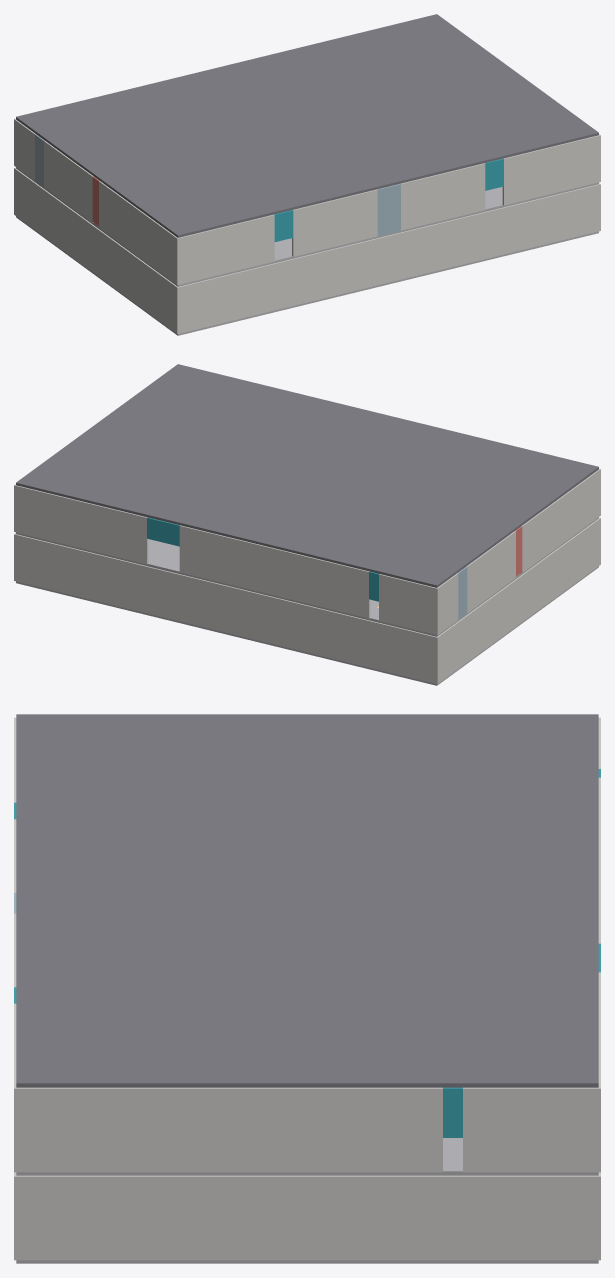
File: arena_a01.glb
3 renders of one model, top to bottom at view 1: azimuth 30°, elevation 25°; view 2: azimuth 150°, elevation 25°; view 3: azimuth 270°, elevation 25°, orthographic. The views are drawn at different scales.
Parts seen in each view (by area): view 1: slab_1_t0_0, slab_1_t0_1, slab_1_t0_9, slab_1_t0_6, slab_1_t0_8, slab_1_t0_2, slab_1_t0_3, slab_1_t0_4, slab_1_t0_7, slab_1_t0_5, slab_1_t0_10, slab_1_t1_0 (+161 smaller); view 2: slab_1_t7_0, slab_1_t7_1, slab_1_t7_9, slab_1_t7_6, slab_1_t7_8, slab_1_t7_2, slab_1_t7_3, slab_1_t7_4, slab_1_t7_7, slab_1_t7_5, slab_1_t7_10, slab_1_t1_0 (+161 smaller); view 3: ext_0_E_seg16, ext_-1_E_seg1, ext_-1_E_seg4, ext_-1_E_seg7, ext_-1_E_seg10, ext_-1_E_seg13, ext_-1_E_seg16, ext_0_E_seg1, ext_0_E_seg4, ext_0_E_seg7, ext_0_E_seg10, ext_0_E_seg15 (+112 smaller).
Boxes of the visible parts, x1=… form: slab_1_t0_0: x1=157, y1=211, x2=216, y2=237; slab_1_t0_1: x1=196, y1=202, x2=254, y2=228; slab_1_t0_9: x1=502, y1=127, x2=560, y2=153; slab_1_t0_6: x1=388, y1=155, x2=445, y2=181; slab_1_t0_8: x1=464, y1=136, x2=522, y2=162; slab_1_t0_2: x1=235, y1=192, x2=292, y2=218; slab_1_t0_3: x1=273, y1=183, x2=330, y2=209; slab_1_t0_4: x1=311, y1=174, x2=369, y2=200; slab_1_t0_7: x1=426, y1=146, x2=484, y2=172; slab_1_t0_5: x1=349, y1=164, x2=407, y2=190; slab_1_t0_10: x1=541, y1=118, x2=598, y2=144; slab_1_t1_0: x1=137, y1=196, x2=195, y2=222; slab_1_t7_0: x1=398, y1=561, x2=457, y2=587; slab_1_t7_1: x1=360, y1=552, x2=418, y2=578; slab_1_t7_9: x1=54, y1=477, x2=112, y2=503; slab_1_t7_6: x1=169, y1=505, x2=226, y2=531; slab_1_t7_8: x1=92, y1=486, x2=150, y2=512; slab_1_t7_2: x1=322, y1=542, x2=379, y2=568; slab_1_t7_3: x1=284, y1=533, x2=341, y2=559; slab_1_t7_4: x1=245, y1=524, x2=303, y2=550; slab_1_t7_7: x1=130, y1=496, x2=188, y2=522; slab_1_t7_5: x1=207, y1=514, x2=265, y2=540; slab_1_t7_10: x1=16, y1=468, x2=73, y2=494; slab_1_t1_0: x1=520, y1=472, x2=578, y2=498; ext_0_E_seg16: x1=527, y1=1087, x2=560, y2=1172; ext_-1_E_seg1: x1=51, y1=1175, x2=83, y2=1260; ext_-1_E_seg4: x1=148, y1=1175, x2=180, y2=1260; ext_-1_E_seg7: x1=245, y1=1175, x2=277, y2=1260; ext_-1_E_seg10: x1=342, y1=1175, x2=374, y2=1260; ext_-1_E_seg13: x1=439, y1=1175, x2=471, y2=1260; ext_-1_E_seg16: x1=536, y1=1175, x2=568, y2=1260; ext_0_E_seg1: x1=51, y1=1087, x2=83, y2=1172; ext_0_E_seg4: x1=148, y1=1087, x2=180, y2=1172; ext_0_E_seg7: x1=245, y1=1087, x2=277, y2=1172; ext_0_E_seg10: x1=342, y1=1087, x2=374, y2=1172; ext_0_E_seg15: x1=495, y1=1087, x2=527, y2=1172.
Size of what is drawn, in the model's own units: 54.3 by 12.3 by 36.3.
